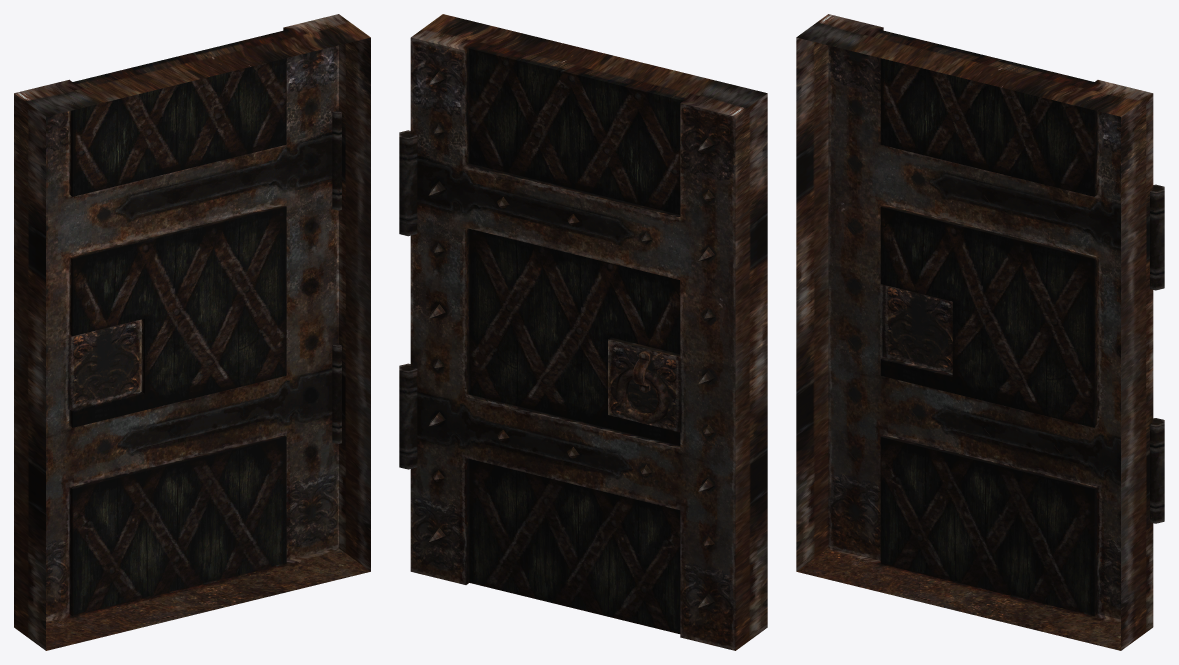
Rendered from level_dungeon.dae.
The picture shows the model from 3 angles, left to right: view 1: azimuth 30°, elevation 25°; view 2: azimuth 150°, elevation 25°; view 3: azimuth 330°, elevation 25°; orthographic projection.
Visible parts, largest first — view 1: base; view 2: base; view 3: base.
Boxes of the visible parts, <box> form: base: <box>14,14,370,650</box>; base: <box>399,14,767,650</box>; base: <box>796,14,1164,650</box>.
Bounding box in the file's own units: 1.8 × 0.4014 × 2.75.
